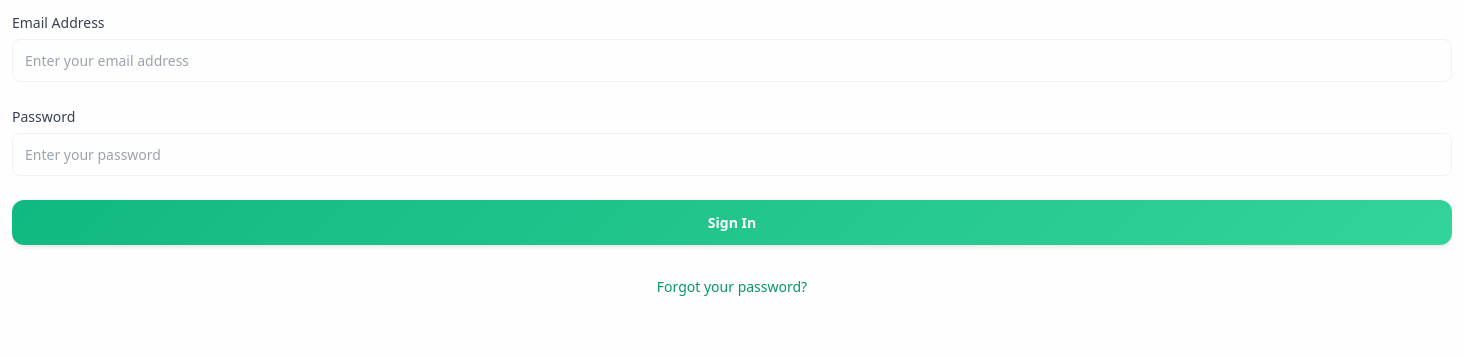
Test: Authentication Forms › SignInForm › Form Validation › clears validation errors when user starts typing
The image size is (1464, 357).
# Trigger validation errors
Click the button "Sign In" at (732, 222), box 12,200 -> 1452,245
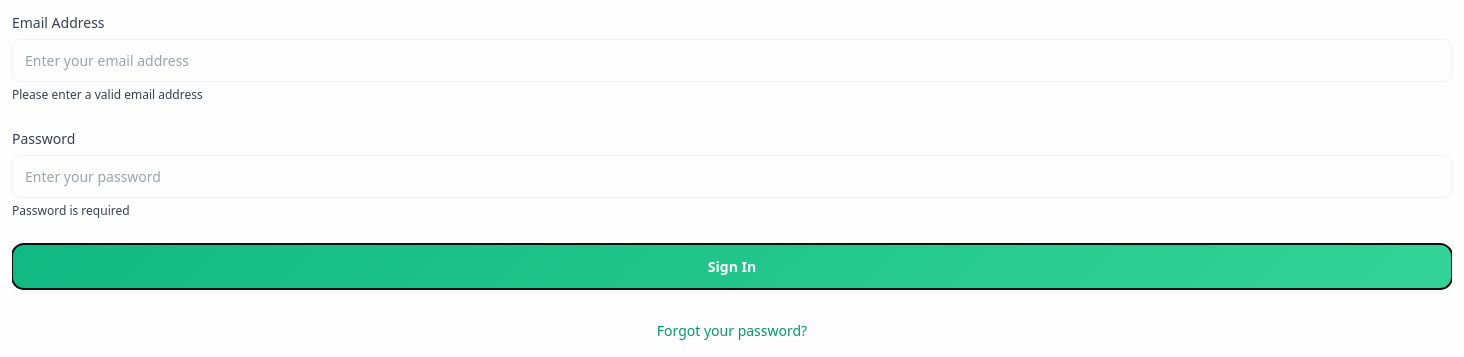
expect the text "Please enter a valid email address" is shown: met, box 12,86 -> 203,103
# Start typing in email field
Type "test@example.com" into the field labelled "Email Address" at (732, 60), box 12,39 -> 1452,82
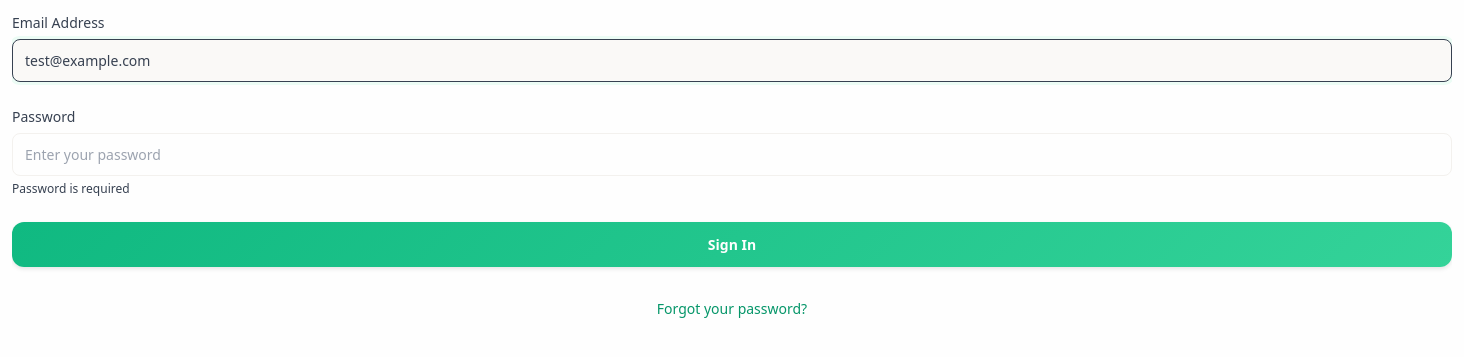
expect the text "Please enter a valid email address" is gone: met
